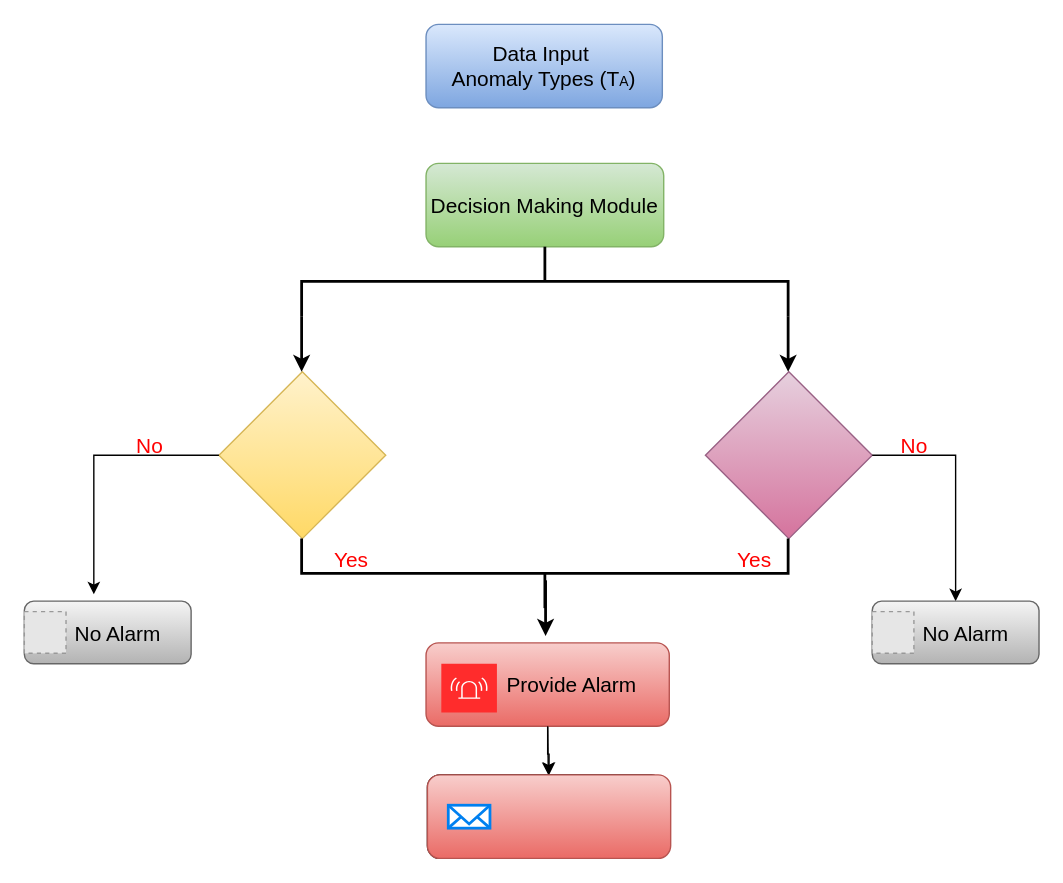
Image size: 1063x883. Some labels were removed from this diagram. Grey dashed boxes stand in for pictures. The shapes that lost their labels are listed below. From the top down, each one's box as (x1, y1, x2, y2) in pixels, then its label:
(218, 370, 386, 539): Suspicious
(704, 370, 872, 539): Intruders
(426, 774, 671, 858): Send Message
